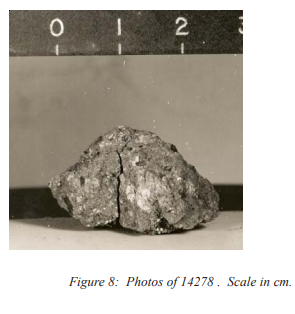Breccia: (49, 123, 226, 240)
